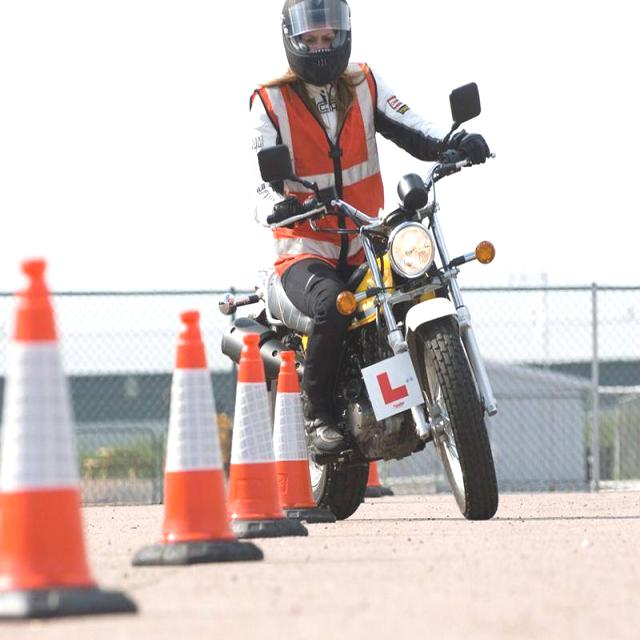MOTORCYCLE: (256, 170, 492, 513)
